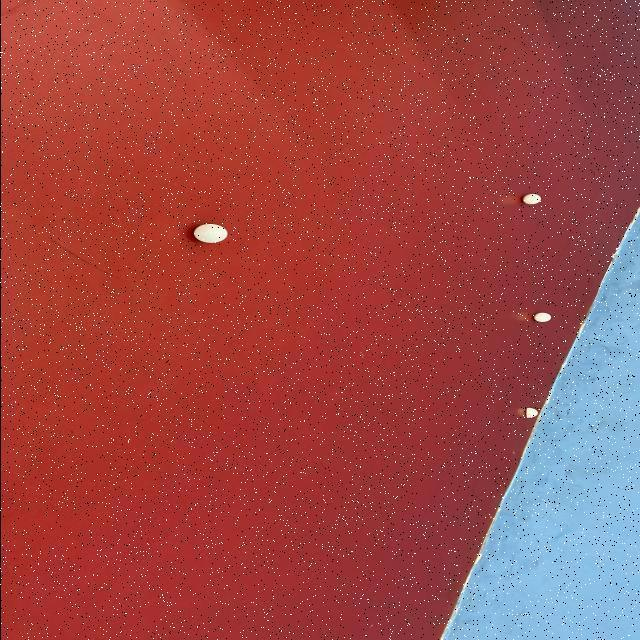ping-pong-ball: (188, 222, 230, 246), (530, 309, 556, 325), (521, 192, 543, 206)
